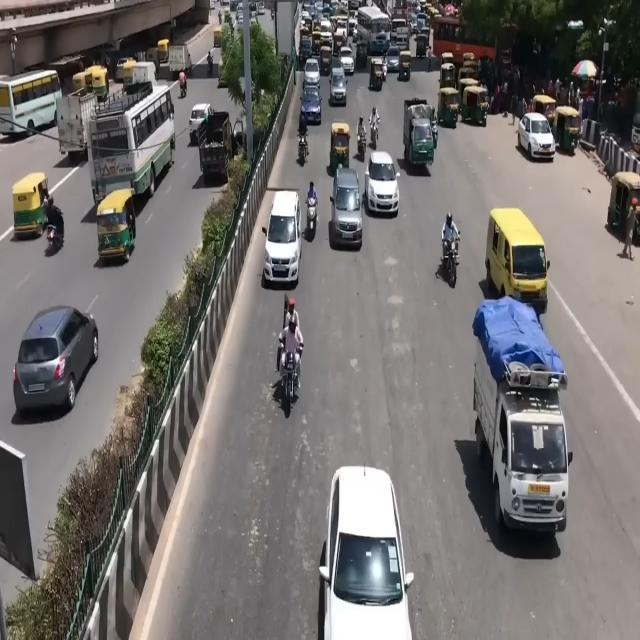auto: (96, 188, 137, 263), (11, 172, 50, 239), (402, 98, 435, 171), (608, 170, 640, 240), (552, 104, 580, 154), (461, 82, 490, 128), (329, 122, 351, 174), (532, 93, 557, 130), (437, 86, 459, 126), (168, 44, 191, 78), (369, 56, 386, 90), (319, 45, 333, 76), (399, 50, 412, 82), (415, 29, 429, 58), (157, 38, 170, 64), (356, 40, 368, 67), (213, 26, 224, 48)
bike-auto: (278, 336, 304, 406), (441, 231, 460, 287), (45, 197, 64, 249), (305, 193, 318, 236), (369, 106, 380, 146), (356, 117, 367, 156), (297, 132, 309, 166), (298, 108, 308, 140), (179, 71, 187, 97), (207, 50, 213, 72), (218, 12, 222, 25)
